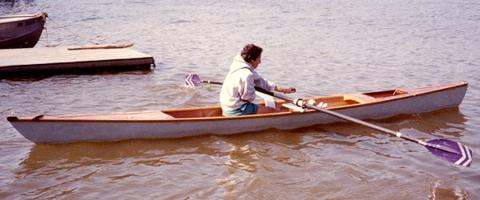person: (220, 45, 296, 117)
